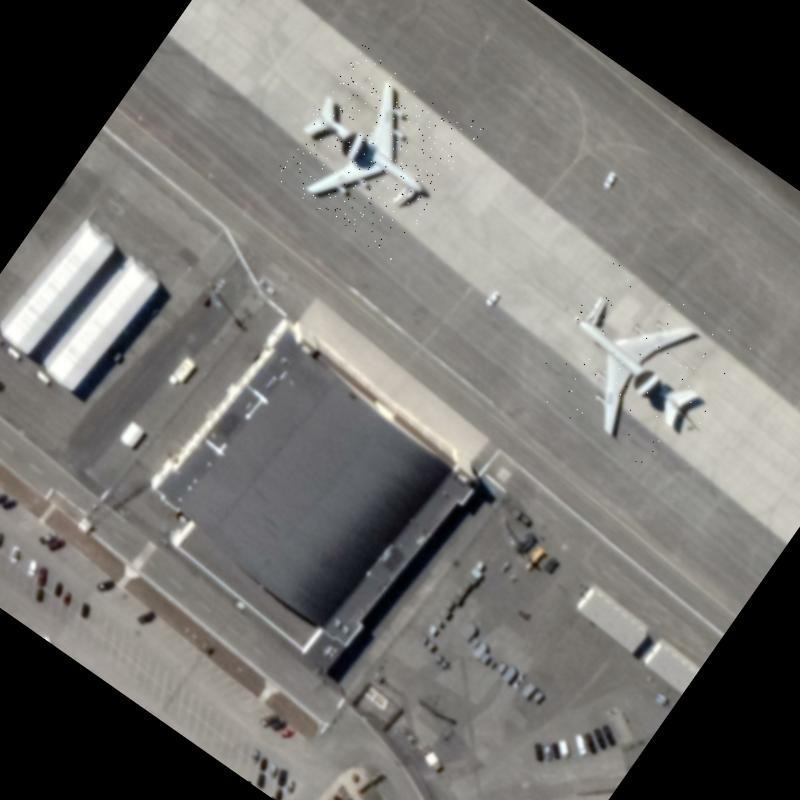A7: (520, 250, 756, 484), (268, 42, 484, 262)
